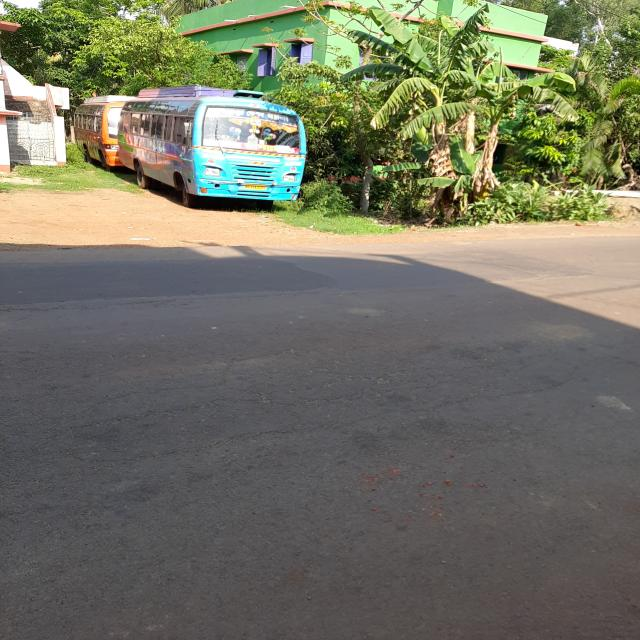Bus: (73, 85, 307, 206)
